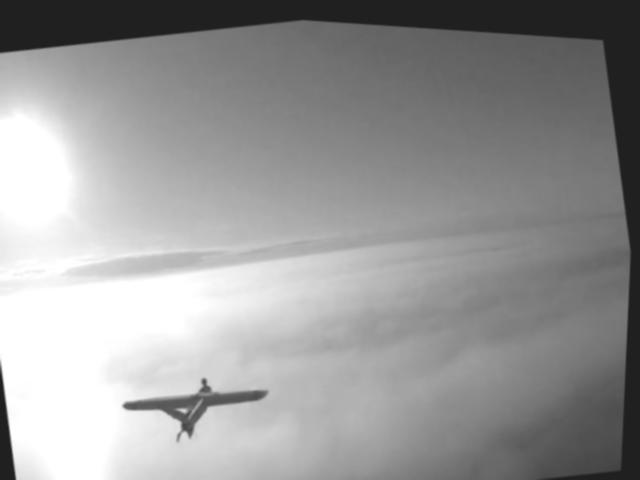hedef: (118, 345, 292, 464)
